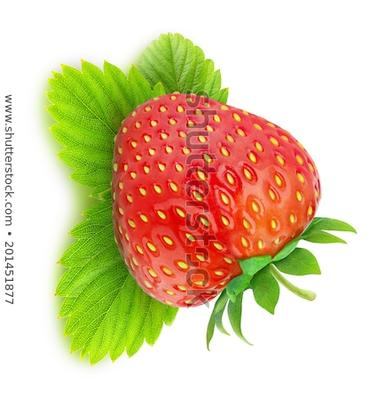strawberry: (0, 0, 385, 400)
